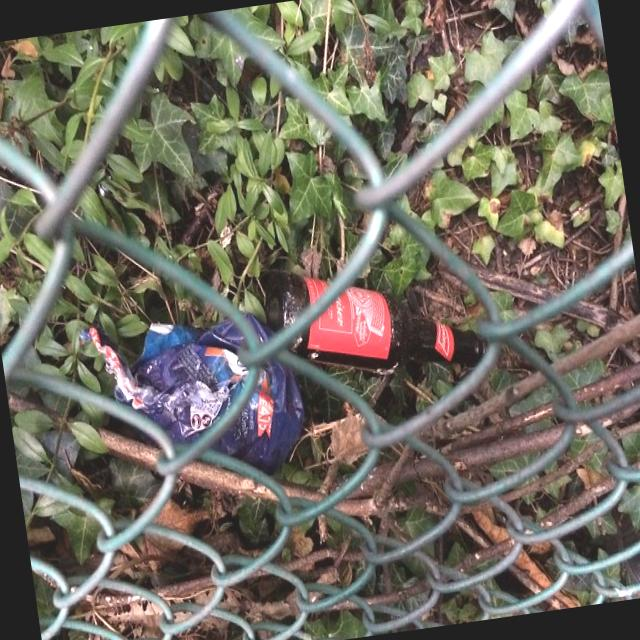Recycle: (258, 242, 492, 408)
Trash: (77, 293, 311, 493)
